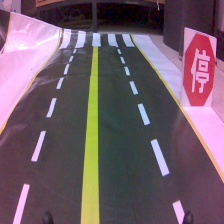stop: (181, 23, 217, 113)
